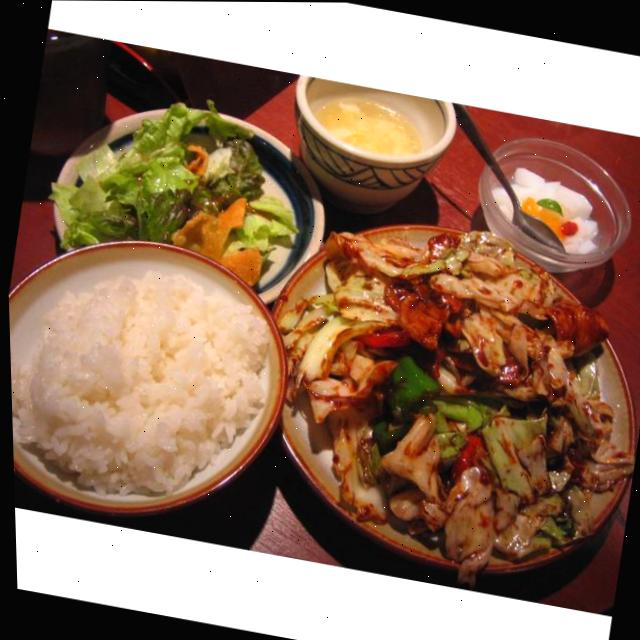蔬菜料理: (279, 225, 613, 551)
